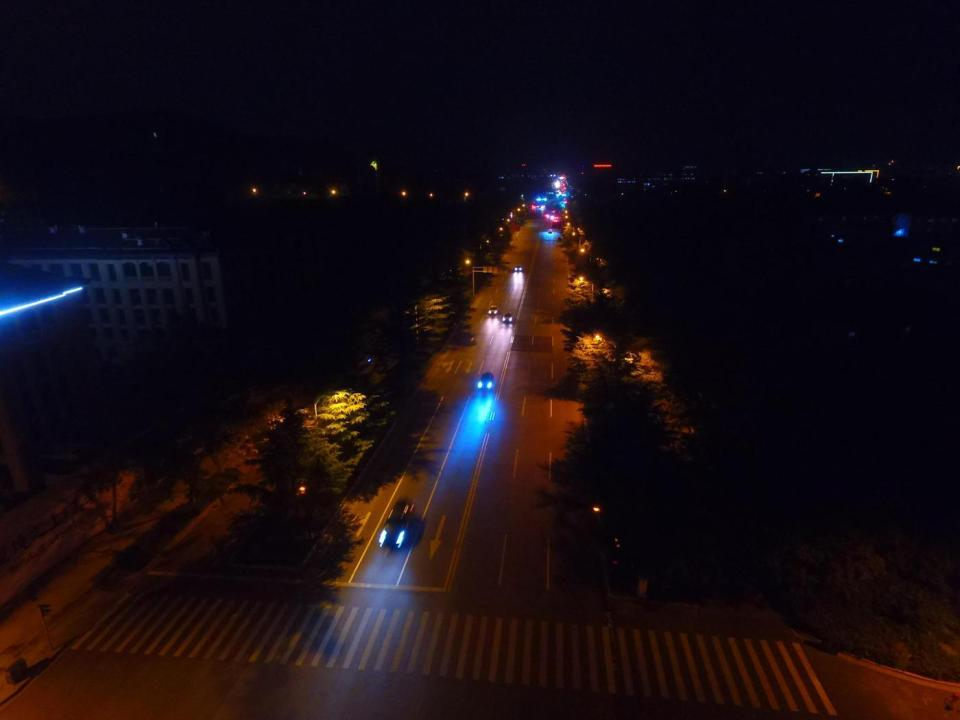car: (380, 495, 418, 551), (238, 434, 298, 463), (266, 404, 319, 428), (477, 370, 495, 395), (502, 312, 514, 324), (488, 304, 498, 317), (513, 264, 520, 272), (548, 228, 552, 232)
